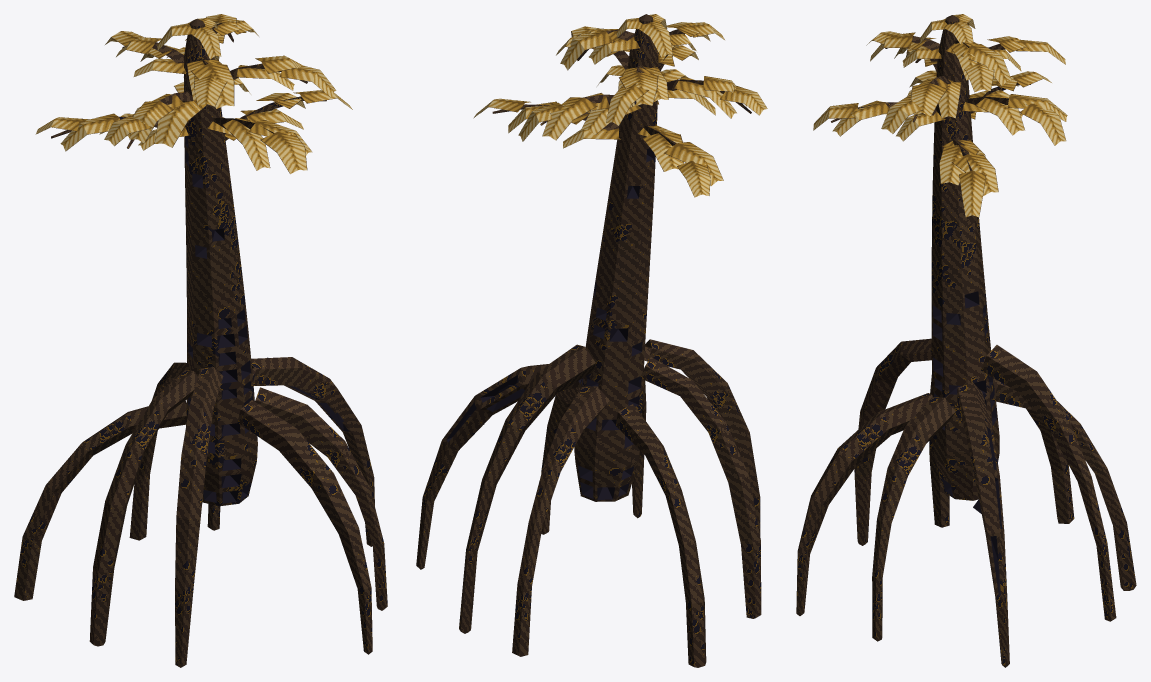
Rendered from arbolZancudo3.gltf.
3 renders of one model, left to right at view 1: azimuth 30°, elevation 25°; view 2: azimuth 150°, elevation 25°; view 3: azimuth 270°, elevation 25°, orthographic. The views are drawn at different scales.
Visible parts, largest first — view 1: FLO-02_Arbol_zancudo_b.021; view 2: FLO-02_Arbol_zancudo_b.021; view 3: FLO-02_Arbol_zancudo_b.021.
Part boxes in pixels (box(x1,y1,x2,y2)): FLO-02_Arbol_zancudo_b.021: box(14, 14, 387, 667); FLO-02_Arbol_zancudo_b.021: box(416, 14, 767, 667); FLO-02_Arbol_zancudo_b.021: box(796, 14, 1136, 667).
Size of the model in its own units: 3.93 by 6.85 by 3.77.
1 material, 1 textured.
